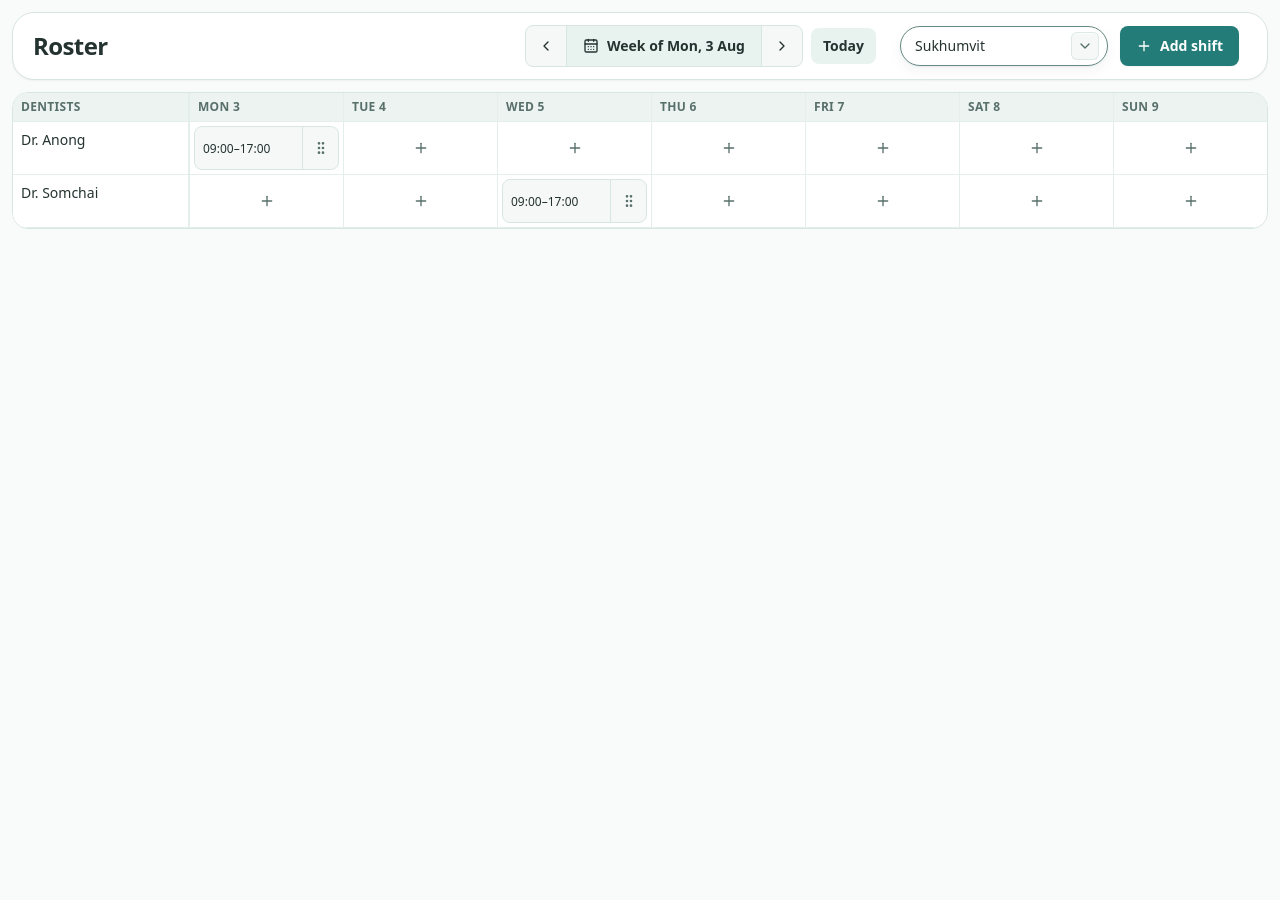
roster drag › treats a press that barely moves as a click that opens the editor
Press the mouse on the button named "Move Dr. Anong shift" at point(320, 148), box [302,127,338,169]
Click the button "09:00–17:00" next to "Dr. Anong" at point(248, 148), box [195,127,302,169]
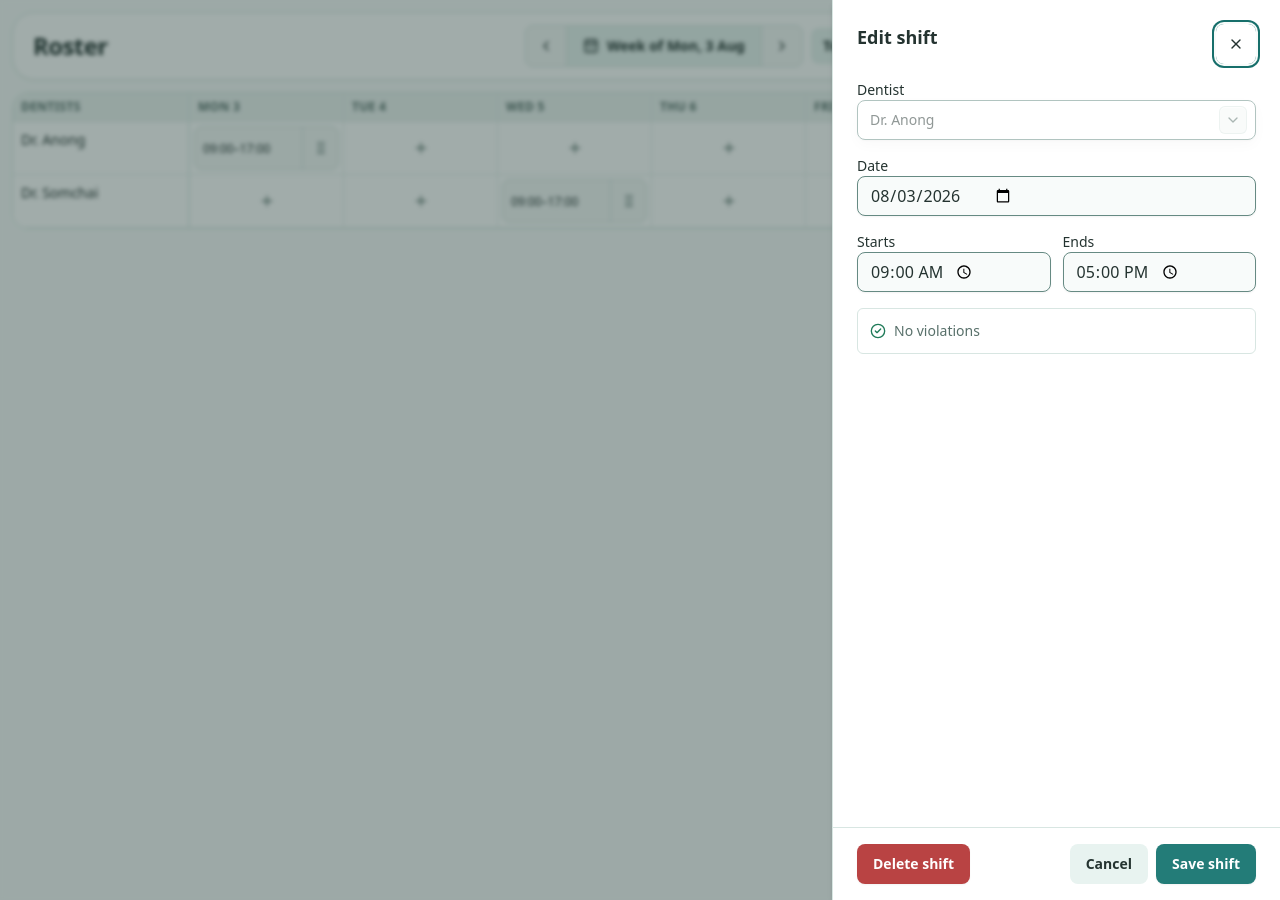
Now the dialog is shown, box [832,0,1279,899]
